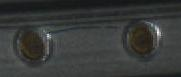joints: (11, 25, 53, 63), (121, 18, 160, 58)
